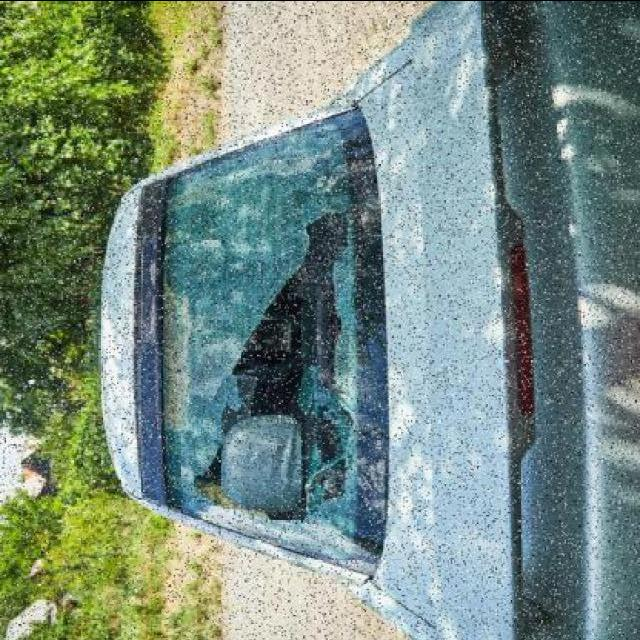Rear-windscreen-Damage: (119, 91, 427, 570)
